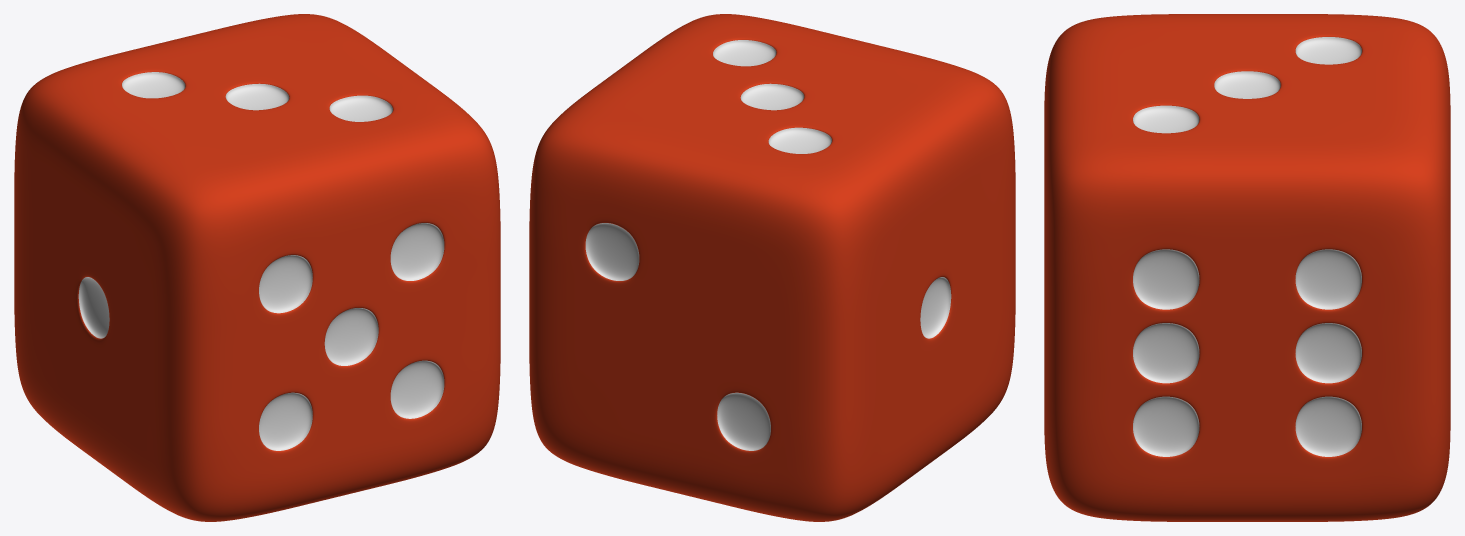
File: Dice.fbx
3 views of the same model, side by side, from view 1: azimuth 30°, elevation 25°; view 2: azimuth 150°, elevation 25°; view 3: azimuth 270°, elevation 25° (orthographic). The views are drawn at different scales.
Parts seen in each view (by area): view 1: Cube; view 2: Cube; view 3: Cube.
Boxes of the visible parts, <box> form: Cube: <box>14,14,500,521</box>; Cube: <box>529,14,1015,521</box>; Cube: <box>1044,14,1450,521</box>.
Size of the model in its own units: 200 by 200 by 200.
